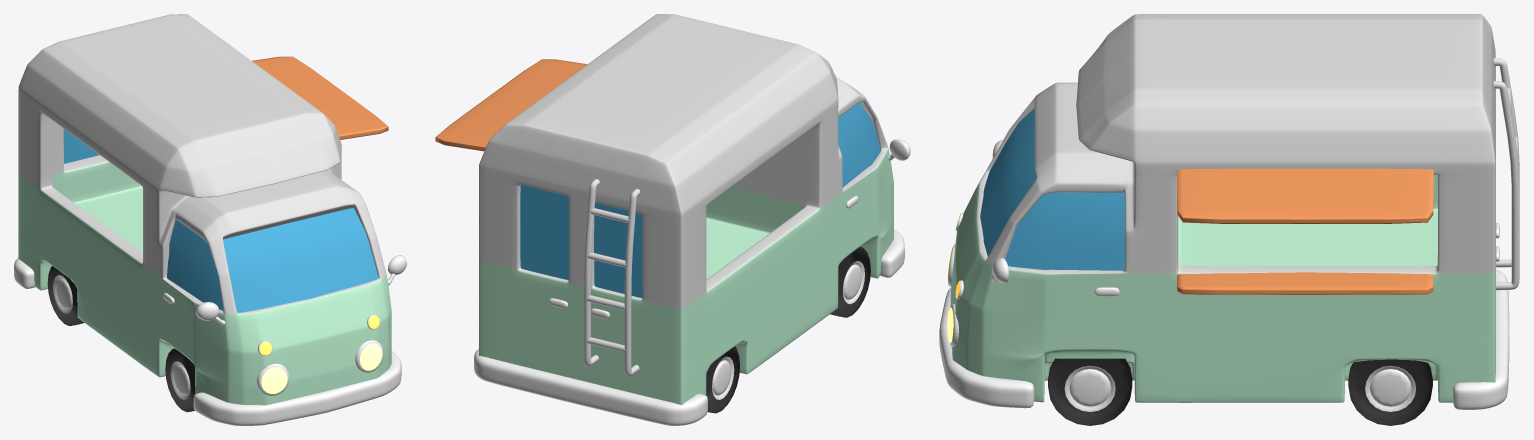
The model's file is Food Truck.fbx.
3 views of the same model, side by side, from view 1: azimuth 30°, elevation 25°; view 2: azimuth 150°, elevation 25°; view 3: azimuth 270°, elevation 25° (orthographic). The views are drawn at different scales.
Parts seen in each view (by area): view 1: Body, Windscreen, Bumber, Awning, Wheel, Headlight, Mirror; view 2: Body, Windscreen, Bumber, Awning, Ladder, Wheel; view 3: Body, Awning, Windscreen, Wheel, Bumber, Ladder, Headlight.
Part boxes in pixels (x1=…): Body: x1=18, y1=14, x2=391, y2=405; Windscreen: x1=63, y1=129, x2=378, y2=312; Bumber: x1=14, y1=258, x2=401, y2=425; Awning: x1=252, y1=56, x2=388, y2=139; Wheel: x1=47, y1=265, x2=195, y2=412; Headlight: x1=257, y1=314, x2=383, y2=395; Mirror: x1=196, y1=255, x2=406, y2=325; Body: x1=479, y1=14, x2=893, y2=405; Windscreen: x1=520, y1=102, x2=880, y2=298; Bumber: x1=474, y1=229, x2=904, y2=425; Awning: x1=435, y1=59, x2=587, y2=151; Ladder: x1=584, y1=179, x2=640, y2=376; Wheel: x1=706, y1=247, x2=870, y2=413; Body: x1=950, y1=14, x2=1495, y2=402; Awning: x1=1177, y1=168, x2=1433, y2=294; Windscreen: x1=980, y1=108, x2=1124, y2=270; Wheel: x1=1048, y1=358, x2=1432, y2=425; Bumber: x1=939, y1=269, x2=1509, y2=409; Ladder: x1=1493, y1=58, x2=1519, y2=290; Headlight: x1=947, y1=213, x2=963, y2=346.
Size of the model in its own units: 279 by 253 by 418.
